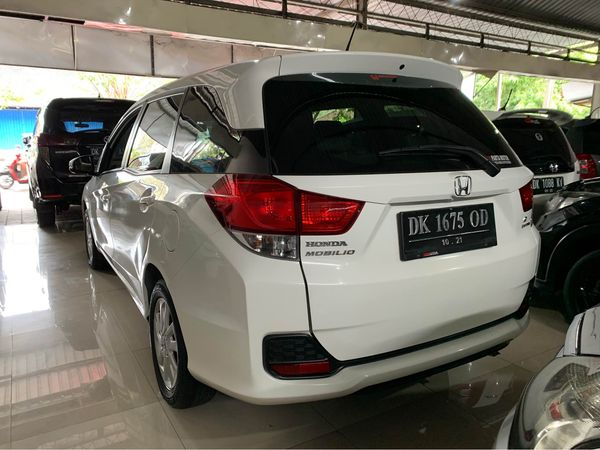plate: (401, 211, 496, 253)
